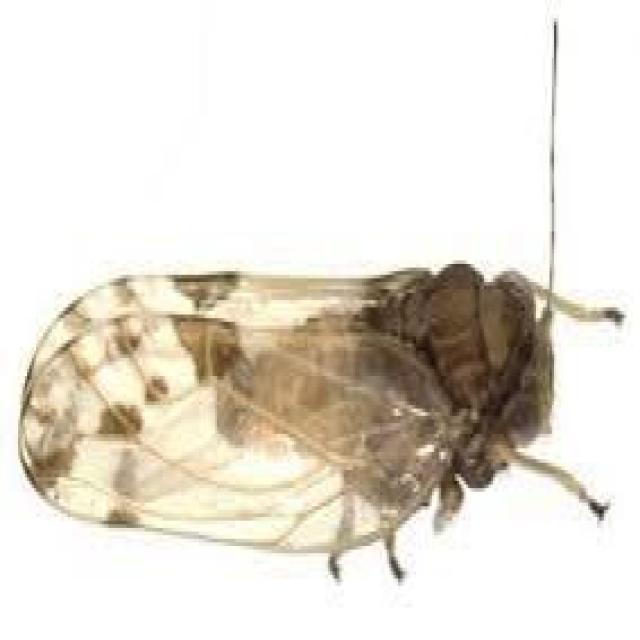Psyllid: (15, 4, 638, 598)
